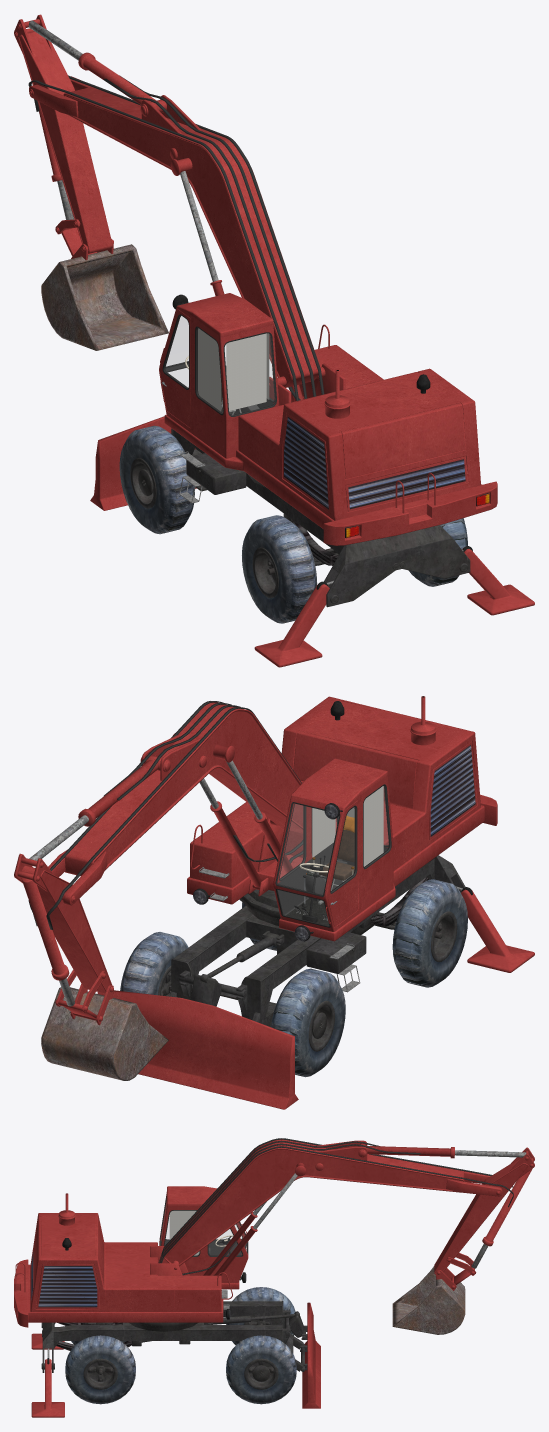
The model's file is atek_4321_excavator.glb.
3 views of the same model, one above another, from view 1: azimuth 30°, elevation 25°; view 2: azimuth 150°, elevation 25°; view 3: azimuth 270°, elevation 25° (orthographic). The views are drawn at different scales.
Visible parts, largest first — view 1: turnable_part, boom_1, base_frame, shovel, boom_2, left_rear_wheel, left_front_wheel, left_outriger, right_outriger, boom_piston_1, right_rear_wheel, left_piston_2; view 2: turnable_part, base_frame, boom_1, shovel, left_rear_wheel, left_front_wheel, boom_2, right_front_wheel, left_outriger, shovel_piston_1, boom_piston_1, right_piston_1 (+2 smaller); view 3: turnable_part, boom_1, base_frame, right_front_wheel, right_rear_wheel, shovel, boom_2, left_front_wheel, right_outriger, boom_piston_1, shovel_piston_1, left_piston_1 (+2 smaller).
Part boxes in pixels (x1,y1,x2,y2): turnable_part: [159, 293, 497, 545]; boom_1: [28, 75, 325, 400]; base_frame: [90, 416, 470, 607]; shovel: [41, 239, 168, 350]; boom_2: [14, 14, 112, 256]; left_rear_wheel: [242, 515, 317, 623]; left_front_wheel: [119, 425, 194, 534]; left_outriger: [254, 580, 338, 667]; right_outriger: [459, 546, 534, 615]; boom_piston_1: [78, 52, 166, 116]; right_rear_wheel: [408, 518, 467, 586]; left_piston_2: [180, 171, 218, 281]; turnable_part: [187, 696, 497, 941]; base_frame: [97, 855, 465, 1109]; boom_1: [28, 701, 303, 929]; shovel: [41, 984, 168, 1080]; left_rear_wheel: [392, 879, 467, 987]; left_front_wheel: [271, 968, 345, 1077]; boom_2: [14, 853, 111, 1018]; right_front_wheel: [120, 932, 188, 996]; left_outriger: [456, 886, 534, 972]; shovel_piston_1: [17, 871, 69, 980]; boom_piston_1: [78, 755, 170, 826]; right_piston_1: [210, 801, 303, 891]; turnable_part: [14, 1186, 248, 1331]; boom_1: [158, 1138, 513, 1269]; base_frame: [42, 1290, 320, 1408]; right_front_wheel: [226, 1335, 296, 1404]; right_rear_wheel: [65, 1335, 135, 1404]; shovel: [392, 1266, 465, 1334]; boom_2: [434, 1147, 534, 1284]; left_front_wheel: [226, 1287, 295, 1345]; right_outriger: [31, 1348, 64, 1417]; boom_piston_1: [358, 1143, 454, 1158]; shovel_piston_1: [482, 1158, 533, 1246]; left_piston_1: [182, 1212, 257, 1275].
Bounding box in the file's own units: 4.95 × 6.58 × 13.22.
79 materials, 68 textured.
